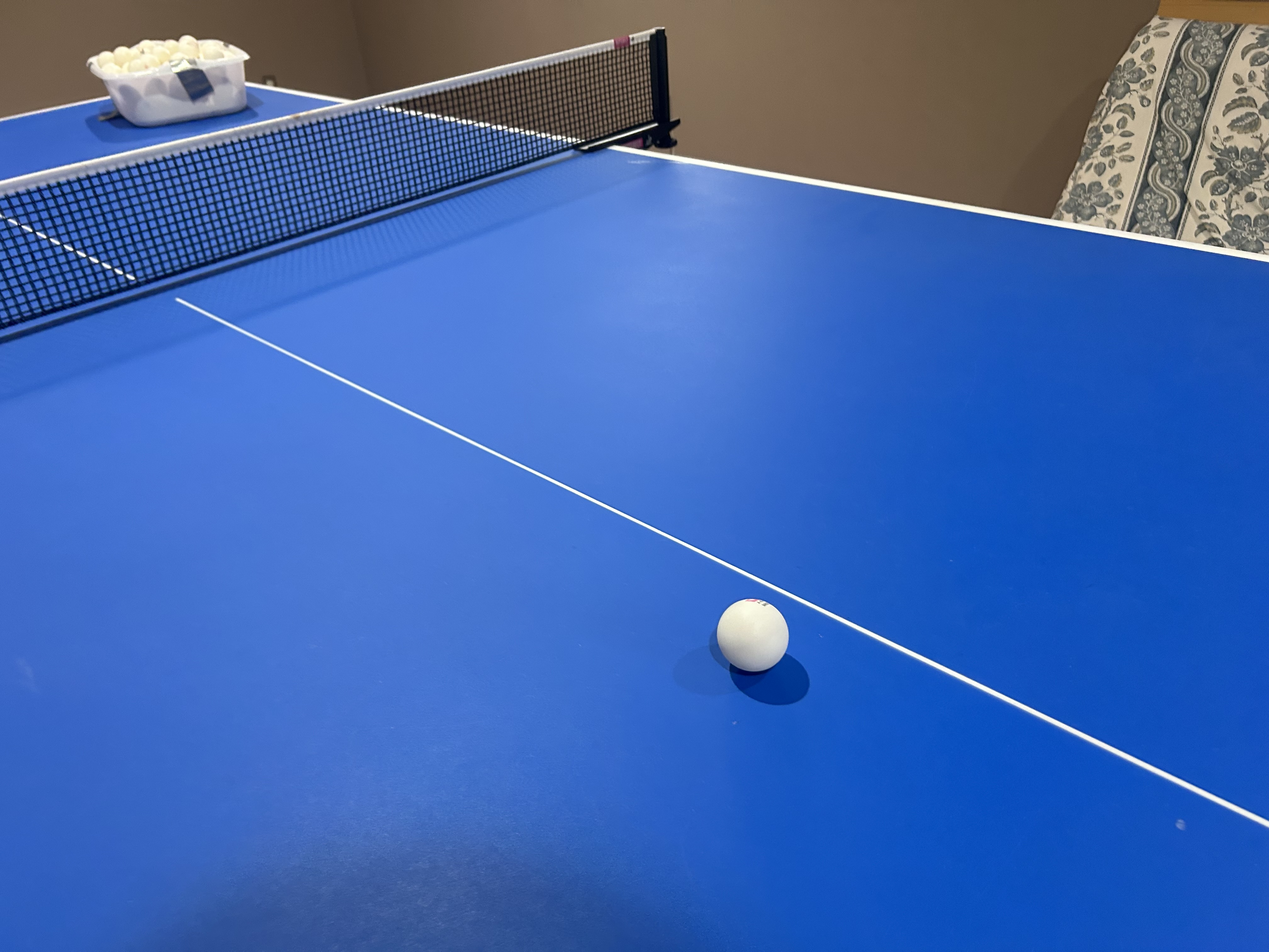Ball: (715, 593, 792, 671)
